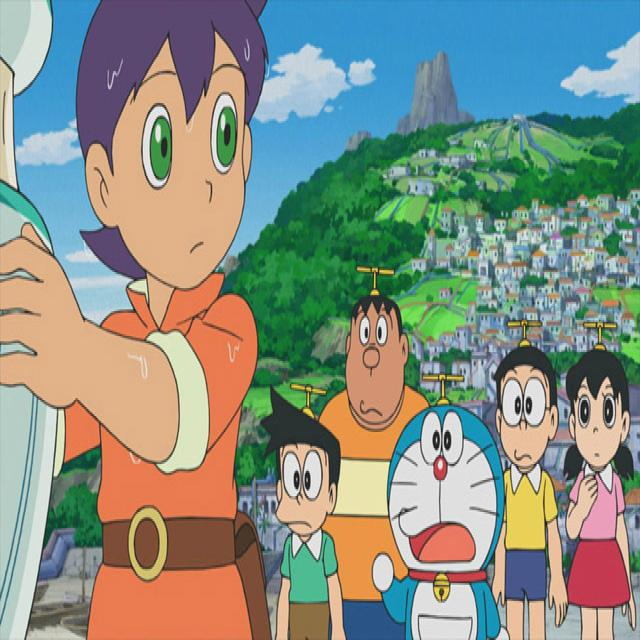doraemon: (377, 382, 512, 638)
jaian: (334, 281, 412, 435)
nobita: (488, 340, 559, 500)
shizuka: (552, 329, 631, 523)
suneo: (254, 370, 349, 554)
